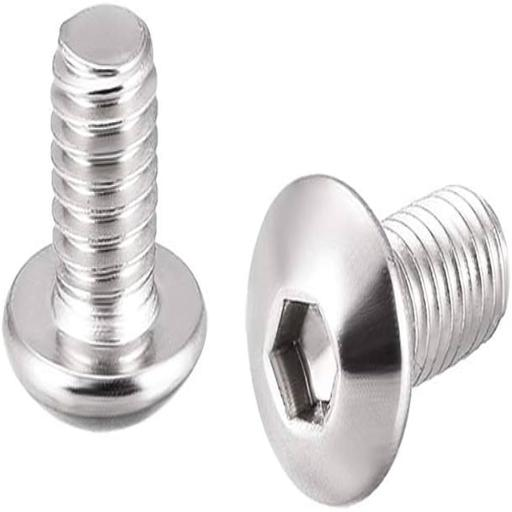Hex-Allen: (244, 172, 408, 504)
